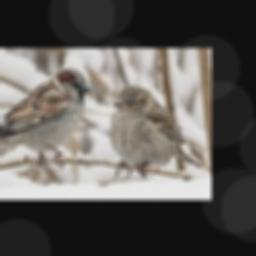Sparrow: (0, 68, 90, 169), (109, 84, 201, 180)
